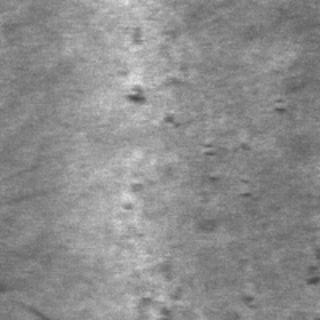rolled pit: (194, 100, 282, 208), (122, 13, 192, 93)
